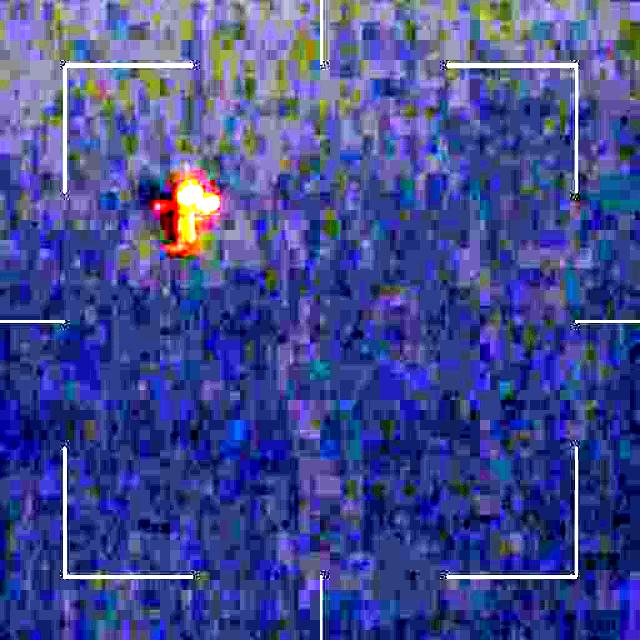bird: (142, 178, 225, 258)
